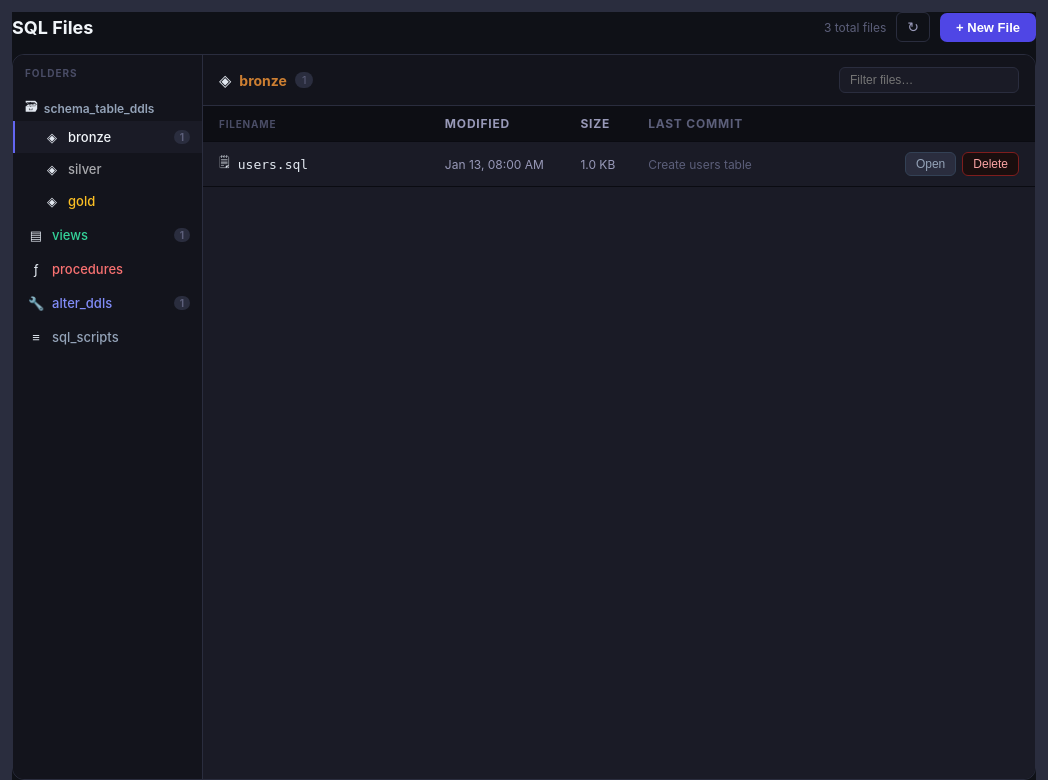
it: FileBrowser component › search filter › shows no match message when search returns nothing
The width and height of the screenshot is (1048, 780).
Step 1. Click the text "views" → [70, 235], box [52,227,88,243]
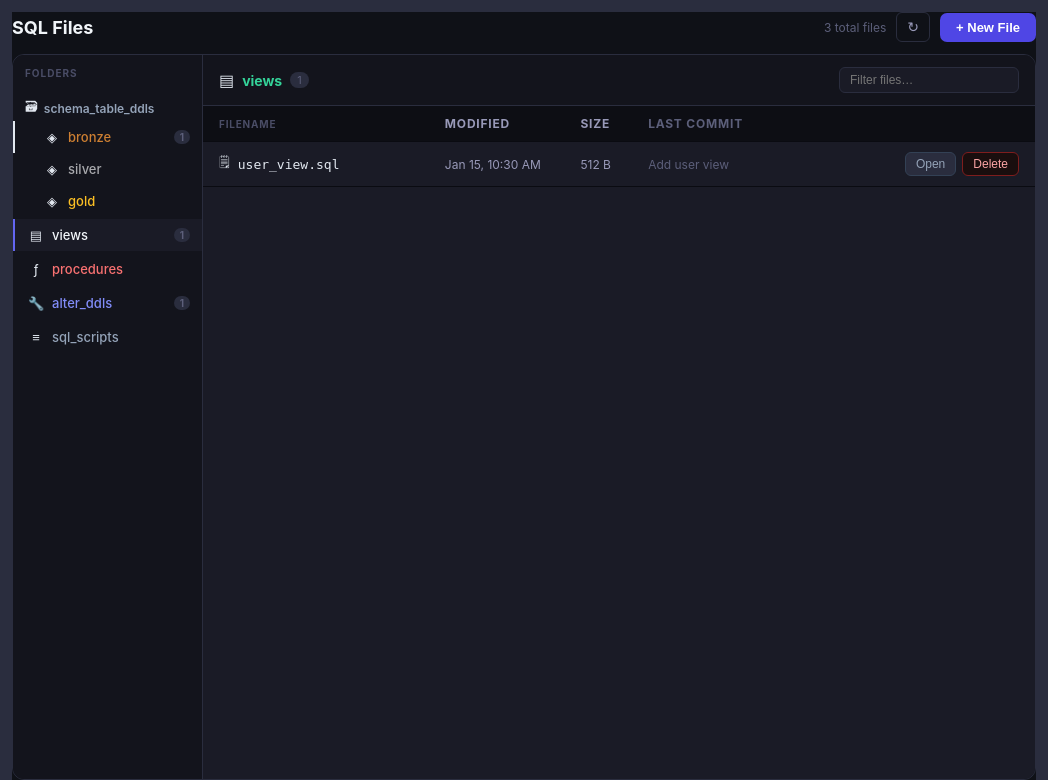
Expected: the text "user_view.sql" is shown, [238,156,340,172]
Step 2. Type "xyz123" into the field with placeholder "Filter files…" → [929, 80], box [839,67,1019,93]
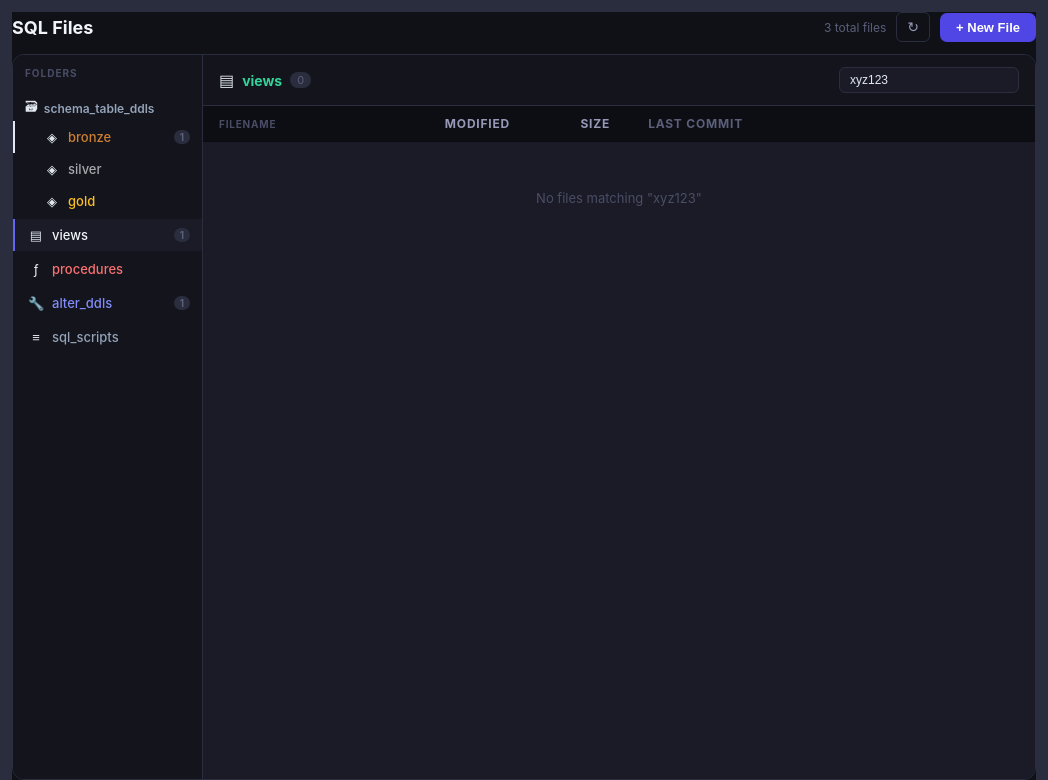
Expected: the text "No files matching \"xyz123\"" is shown, [536,190,702,206]
